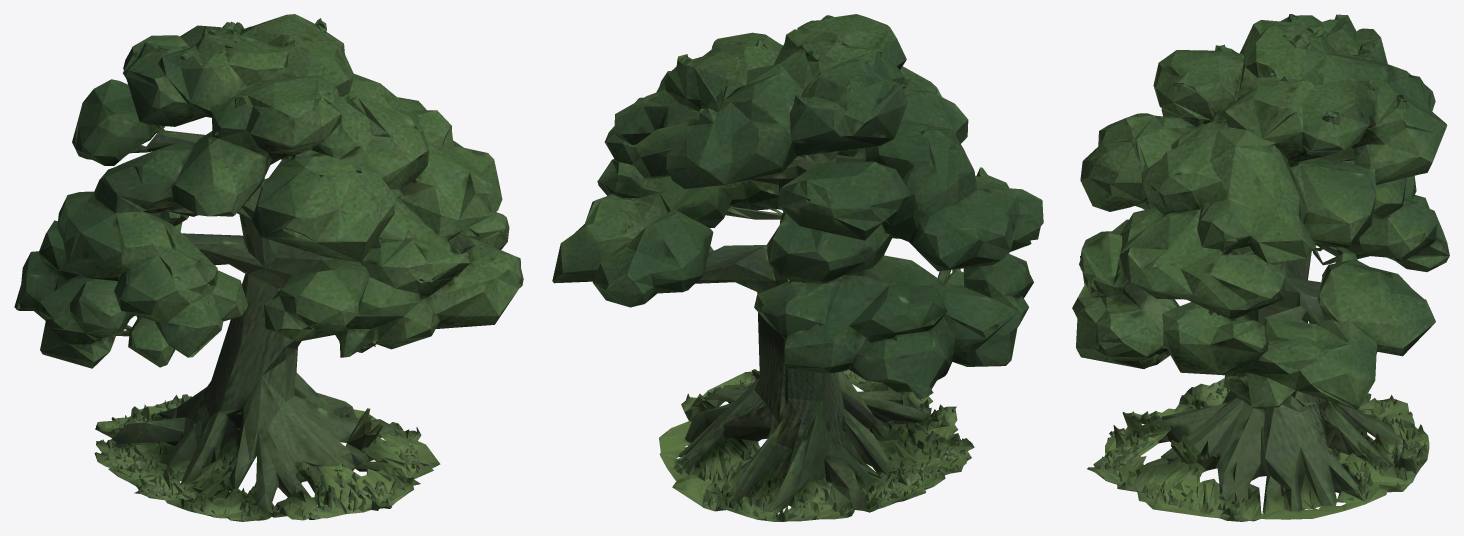
Rendered from bog_oak_01.glb.
3 views of the same model, side by side, from view 1: azimuth 30°, elevation 25°; view 2: azimuth 150°, elevation 25°; view 3: azimuth 270°, elevation 25° (orthographic).
Visible parts, largest first — view 1: geometry_0; view 2: geometry_0; view 3: geometry_0.
Part boxes in pixels (x1=…): geometry_0: x1=14, y1=14, x2=523, y2=521; geometry_0: x1=552, y1=14, x2=1043, y2=521; geometry_0: x1=1072, y1=14, x2=1449, y2=521.
Size of the model in its own units: 0.9982 by 0.9699 by 0.7714.
Materials: 1 (1 with a texture image).
